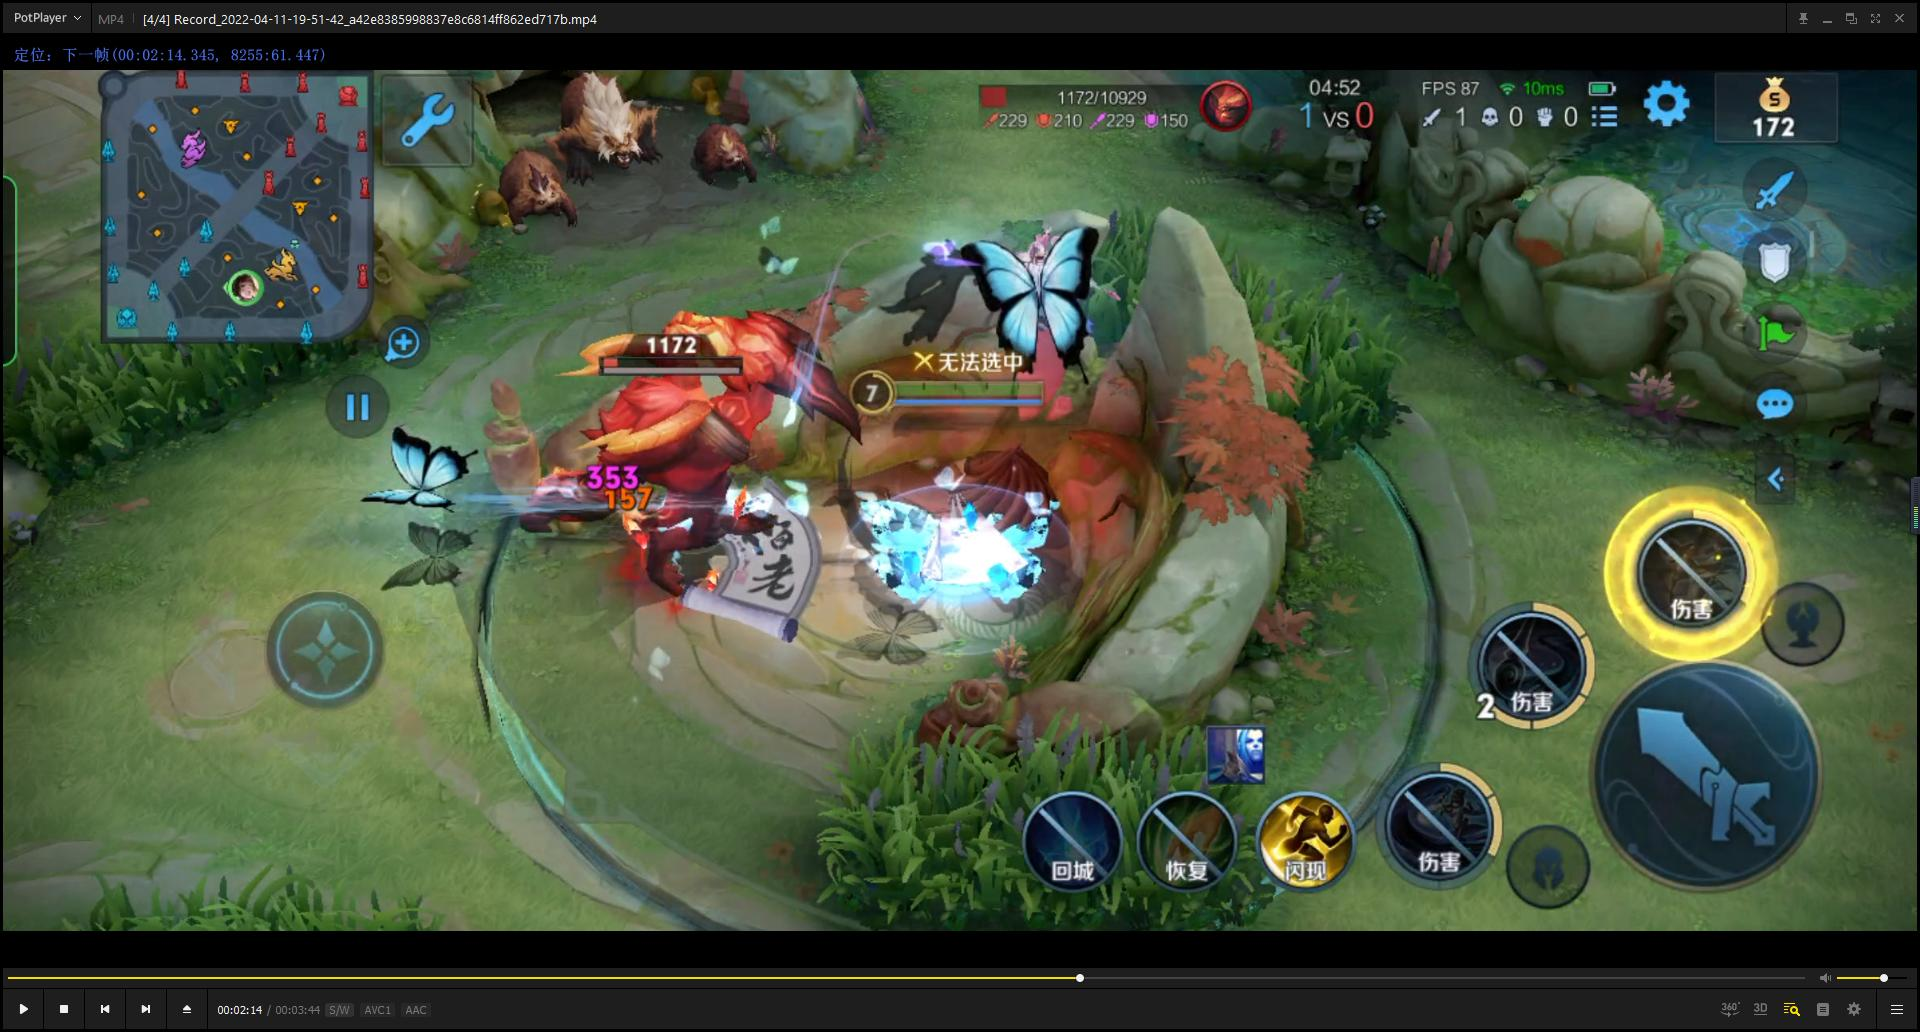Buff: (517, 280, 883, 696)
Hero: (808, 211, 1109, 662)
Pig: (463, 140, 604, 247), (546, 72, 668, 178), (672, 111, 760, 194)
